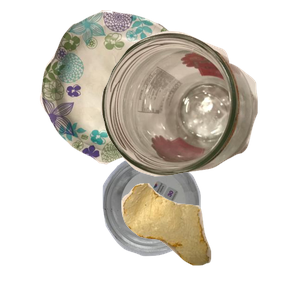glass: (98, 29, 300, 198)
paper: (37, 10, 219, 167)
plastic: (100, 152, 293, 300)
trash: (119, 181, 300, 300)
